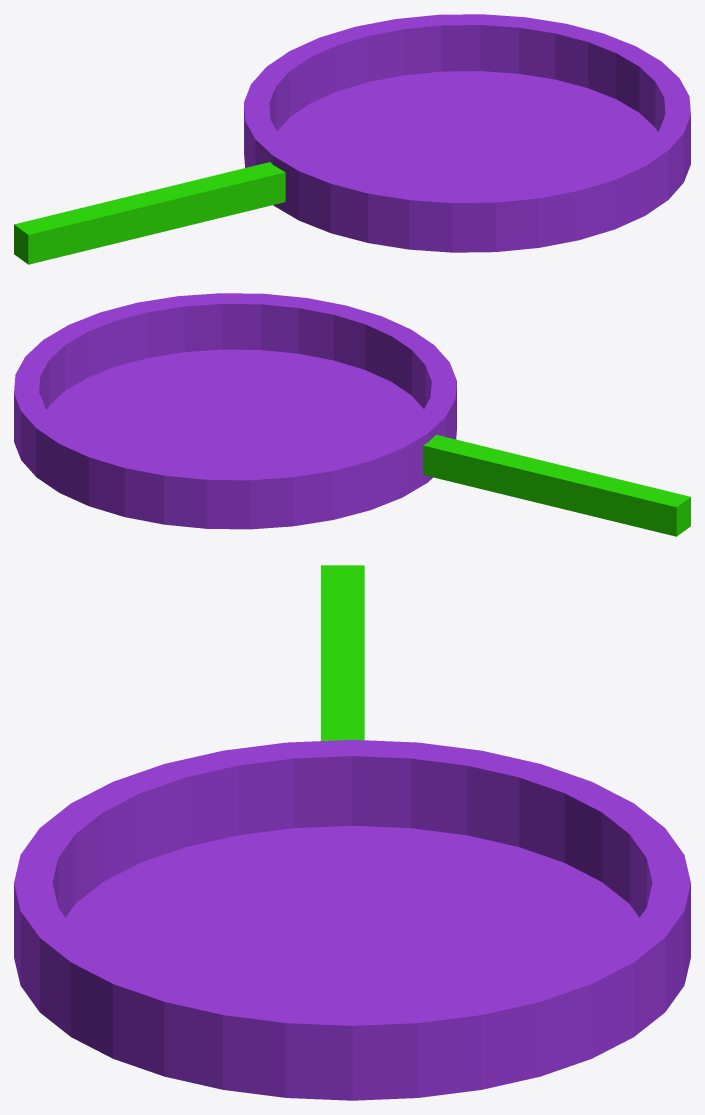
The model's file is Saucepan.fbx.
The picture shows the model from 3 angles, top to bottom: view 1: azimuth 30°, elevation 25°; view 2: azimuth 150°, elevation 25°; view 3: azimuth 270°, elevation 25°; orthographic projection. The views are drawn at different scales.
Visible parts, largest first — view 1: Sauce pan, Sauce pan handle; view 2: Sauce pan, Sauce pan handle; view 3: Sauce pan, Sauce pan handle.
Part boxes in pixels (x1,y1,x2,y2): Sauce pan: (244,14,690,252); Sauce pan handle: (14,162,285,264); Sauce pan: (14,293,456,529); Sauce pan handle: (423,434,690,536); Sauce pan: (14,739,690,1100); Sauce pan handle: (321,565,364,740).
Size of the model in its own units: 58.33 by 4.29 by 35.18.
